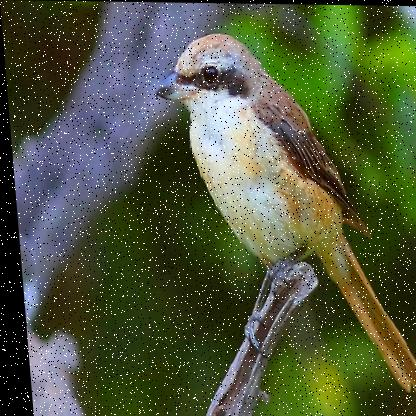Burung: (147, 31, 415, 410)
